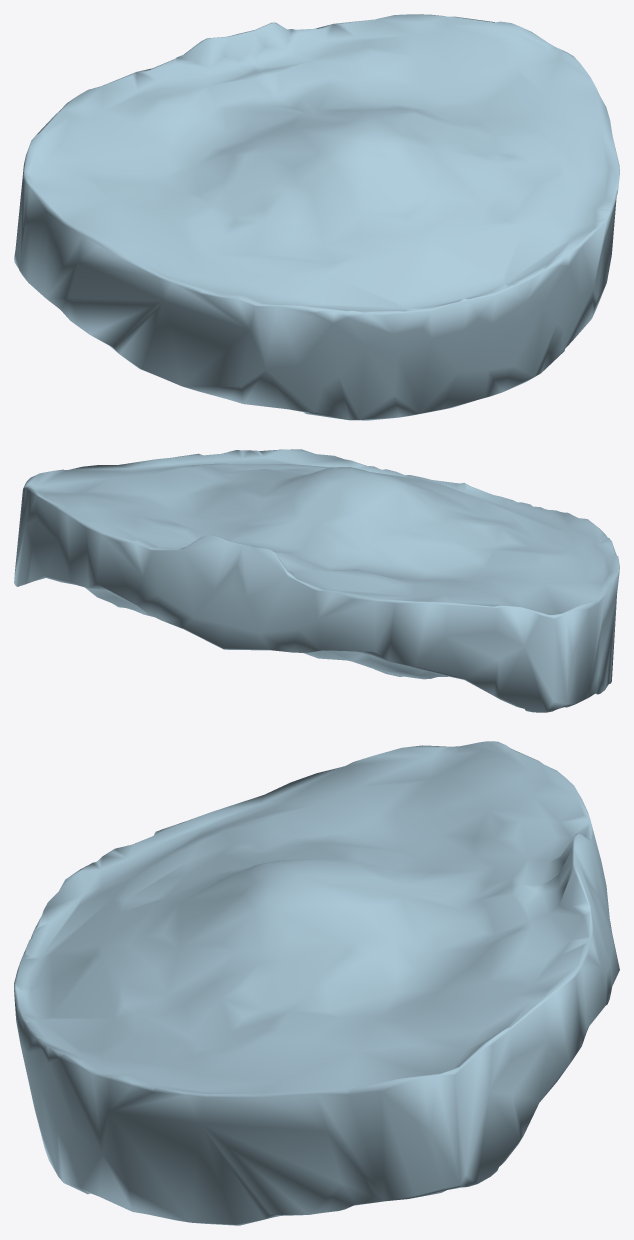
Rendered from articulacoes-intervertebral-disc-l4-l5.glb.
3 renders of one model, top to bottom at view 1: azimuth 30°, elevation 25°; view 2: azimuth 150°, elevation 25°; view 3: azimuth 270°, elevation 25°, orthographic. The views are drawn at different scales.
Visible parts, largest first — view 1: Intervertebral disc L4-L5; view 2: Intervertebral disc L4-L5; view 3: Intervertebral disc L4-L5.
Part boxes in pixels (bbox=[...]): Intervertebral disc L4-L5: bbox=[14, 14, 619, 420]; Intervertebral disc L4-L5: bbox=[14, 449, 619, 712]; Intervertebral disc L4-L5: bbox=[14, 741, 619, 1225].
Size of the model in its own units: 0.0507 by 0.0196 by 0.0387.
